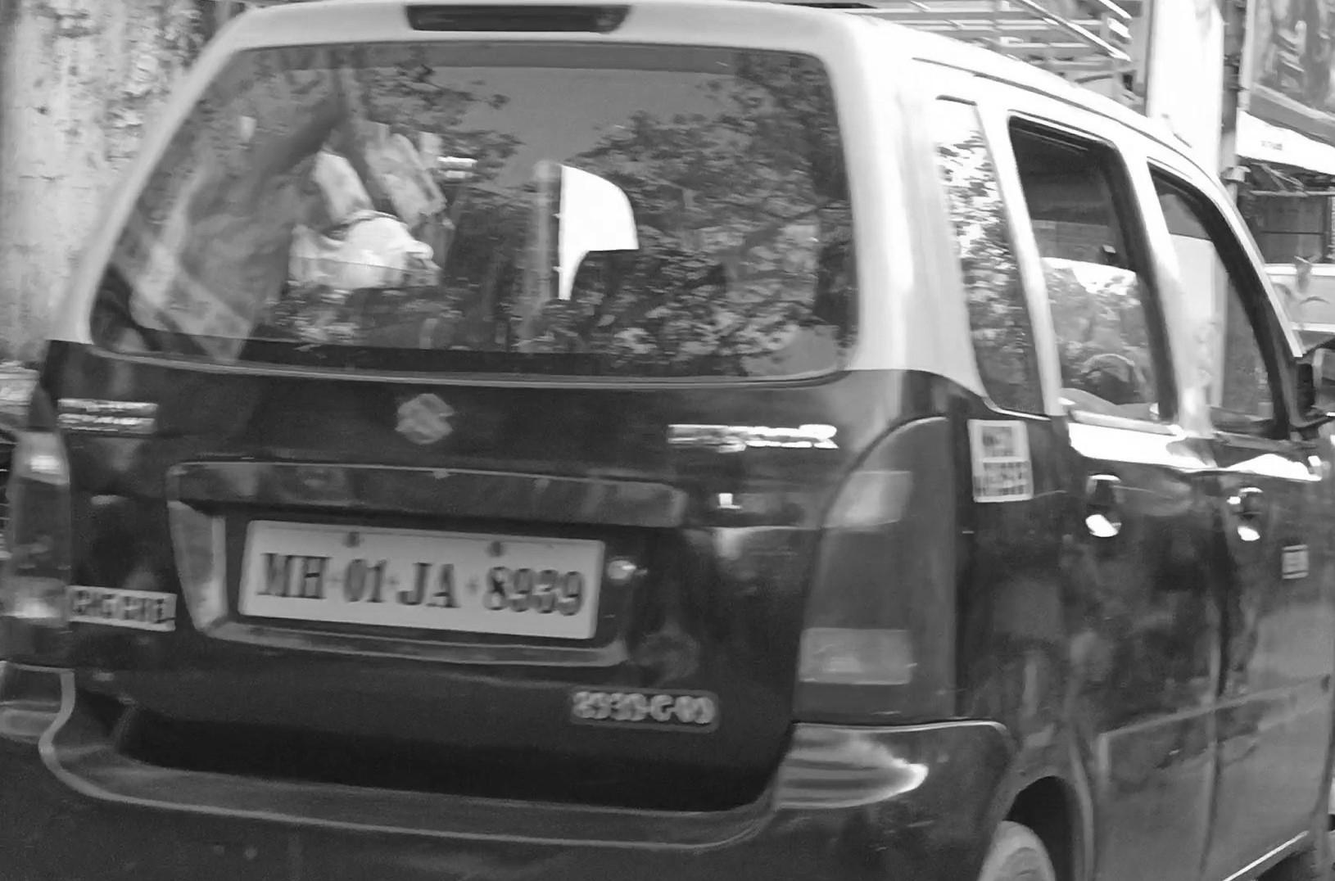number_plate: (242, 520, 598, 646)
